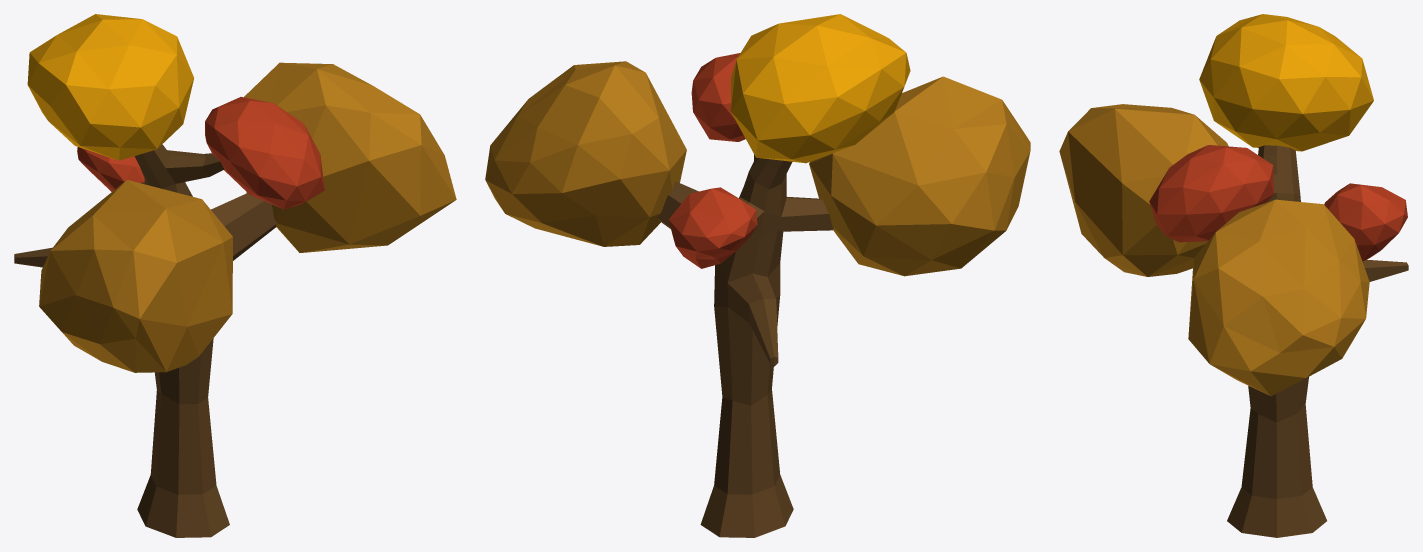
Rendered from Tree2Autumn.fbx.
3 renders of one model, left to right at view 1: azimuth 30°, elevation 25°; view 2: azimuth 150°, elevation 25°; view 3: azimuth 270°, elevation 25°, orthographic. The views are drawn at different scales.
Parts seen in each view (by area): view 1: Icosphere; view 2: Icosphere; view 3: Icosphere.
Boxes of the visible parts, box(x1,y1,x2,y2) form: Icosphere: box(14, 14, 456, 537); Icosphere: box(485, 14, 1030, 537); Icosphere: box(1059, 14, 1408, 537).
Bounding box in the file's own units: 320 × 351 × 238.
